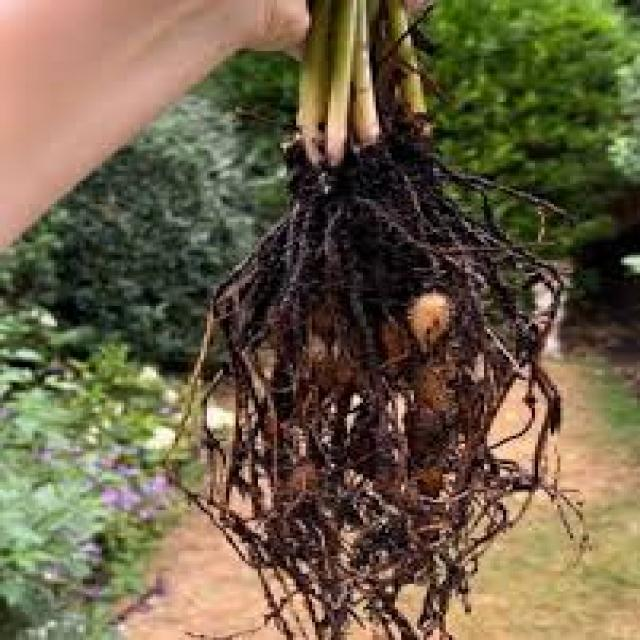root_rot: (161, 32, 571, 600)
